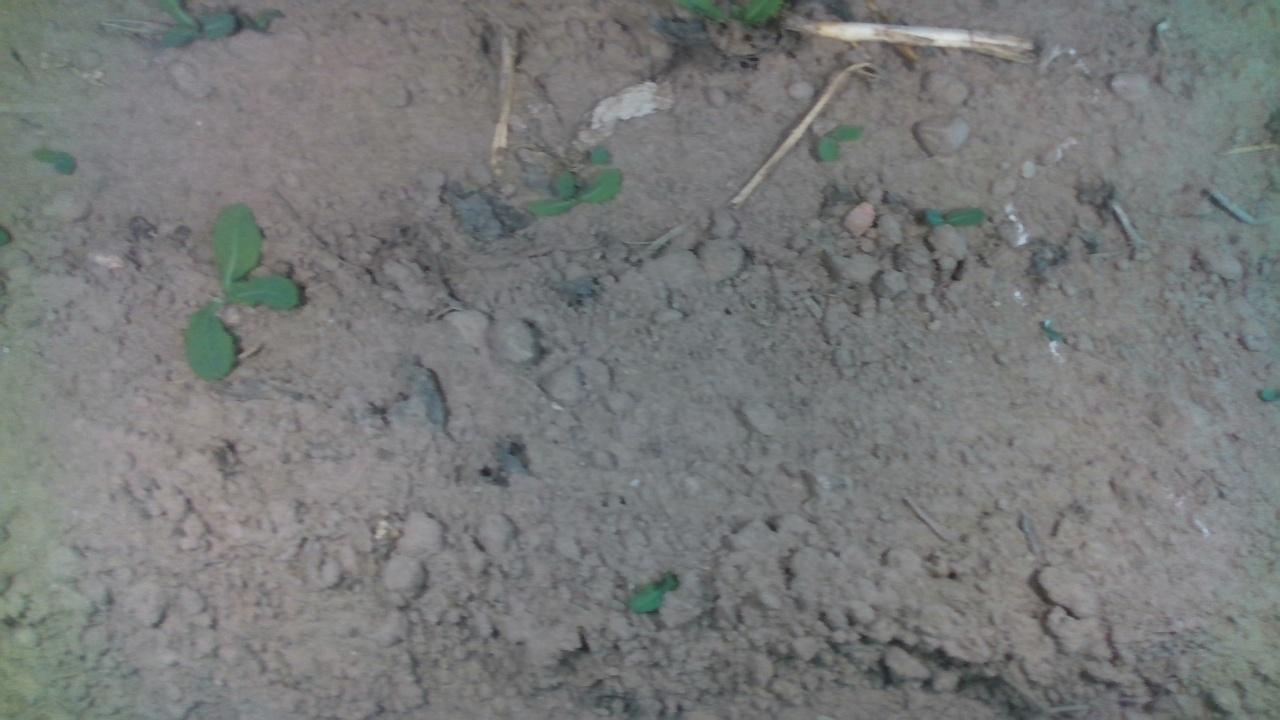weed: (181, 199, 300, 383), (518, 163, 622, 217), (813, 120, 866, 163), (921, 203, 986, 227)
